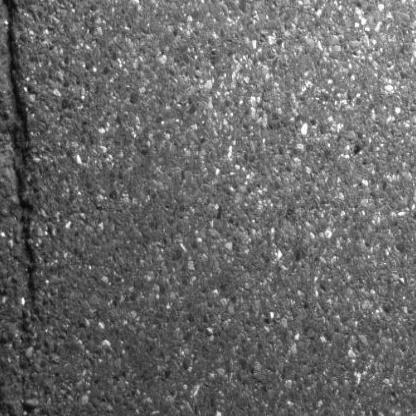Cracks: (1, 0, 41, 316)
